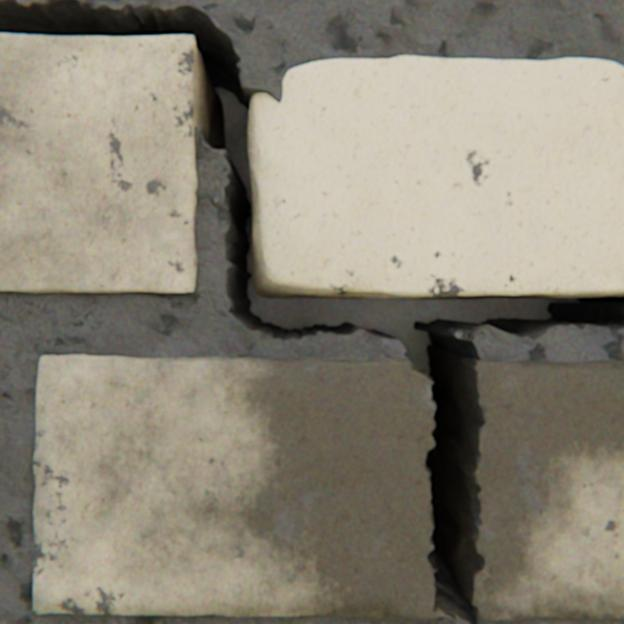brick: (265, 57, 623, 296), (0, 35, 197, 293)
broken_brick: (34, 354, 455, 618), (470, 360, 623, 619)
crack: (0, 0, 623, 623)
